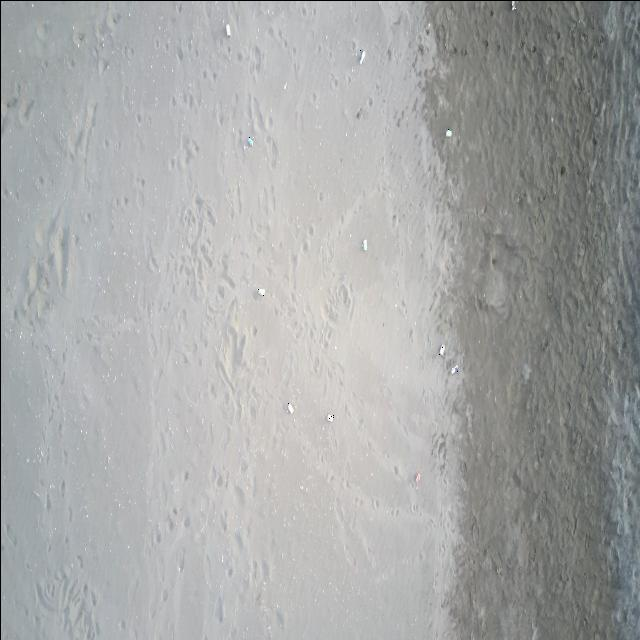Garbage: (413, 472, 420, 484), (437, 344, 444, 355), (224, 24, 230, 36), (451, 364, 459, 373), (360, 48, 364, 64), (256, 287, 263, 296), (362, 239, 367, 251), (444, 129, 452, 135), (327, 412, 333, 420), (247, 136, 252, 145), (287, 403, 292, 412), (511, 0, 515, 9)
